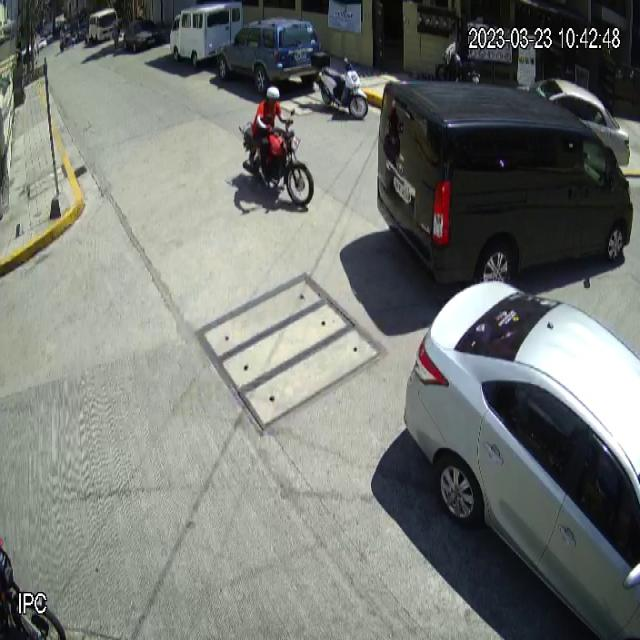Car: (401, 282, 640, 640), (216, 15, 322, 96)
Motorcycle: (312, 50, 368, 121)
Van: (376, 80, 635, 291), (169, 0, 245, 68)
